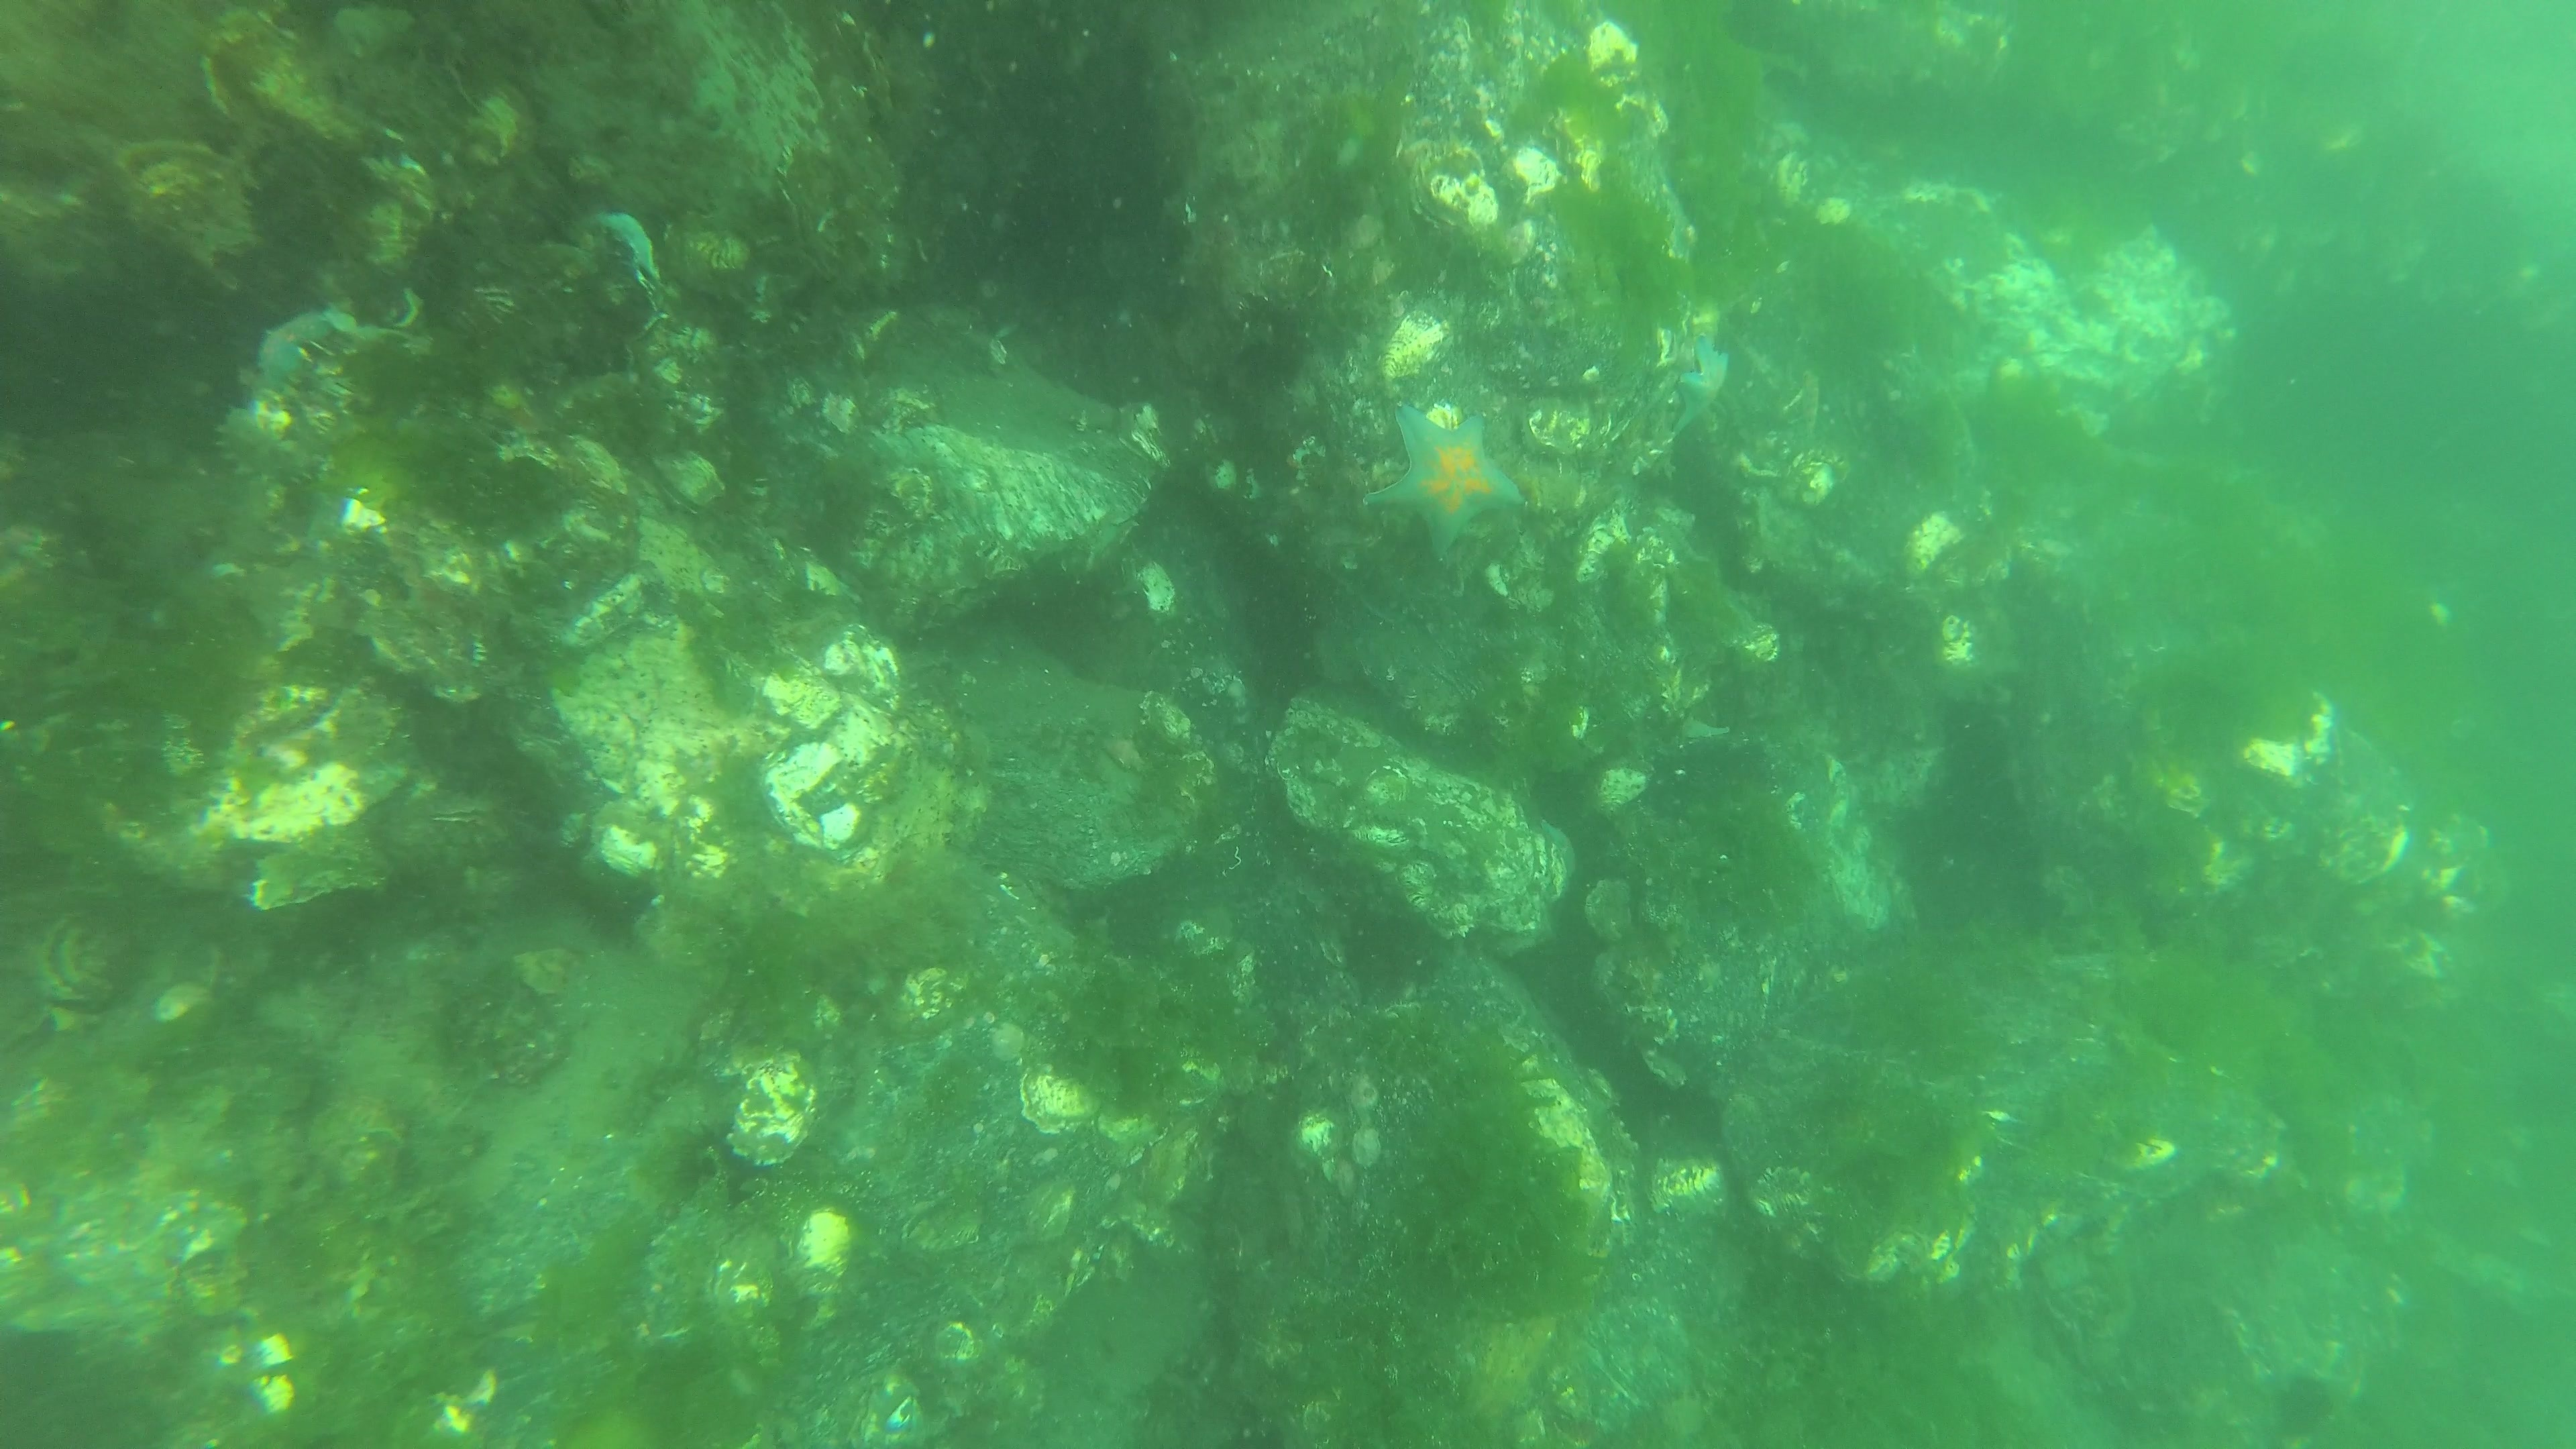echinus: (1228, 301, 1311, 391)
holothurian: (212, 409, 327, 497)
starfish: (1364, 400, 1529, 556), (589, 211, 674, 317), (255, 310, 341, 391), (1674, 333, 1732, 441)
